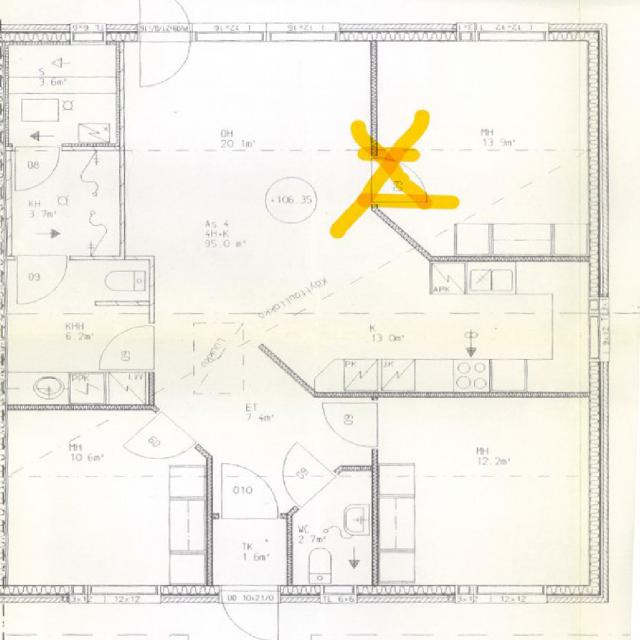door: (122, 411, 196, 477), (262, 442, 336, 507), (222, 463, 278, 519), (221, 585, 278, 640), (140, 24, 190, 86), (322, 402, 378, 447), (99, 326, 155, 370), (18, 255, 66, 303), (15, 143, 59, 190), (140, 0, 190, 41)
